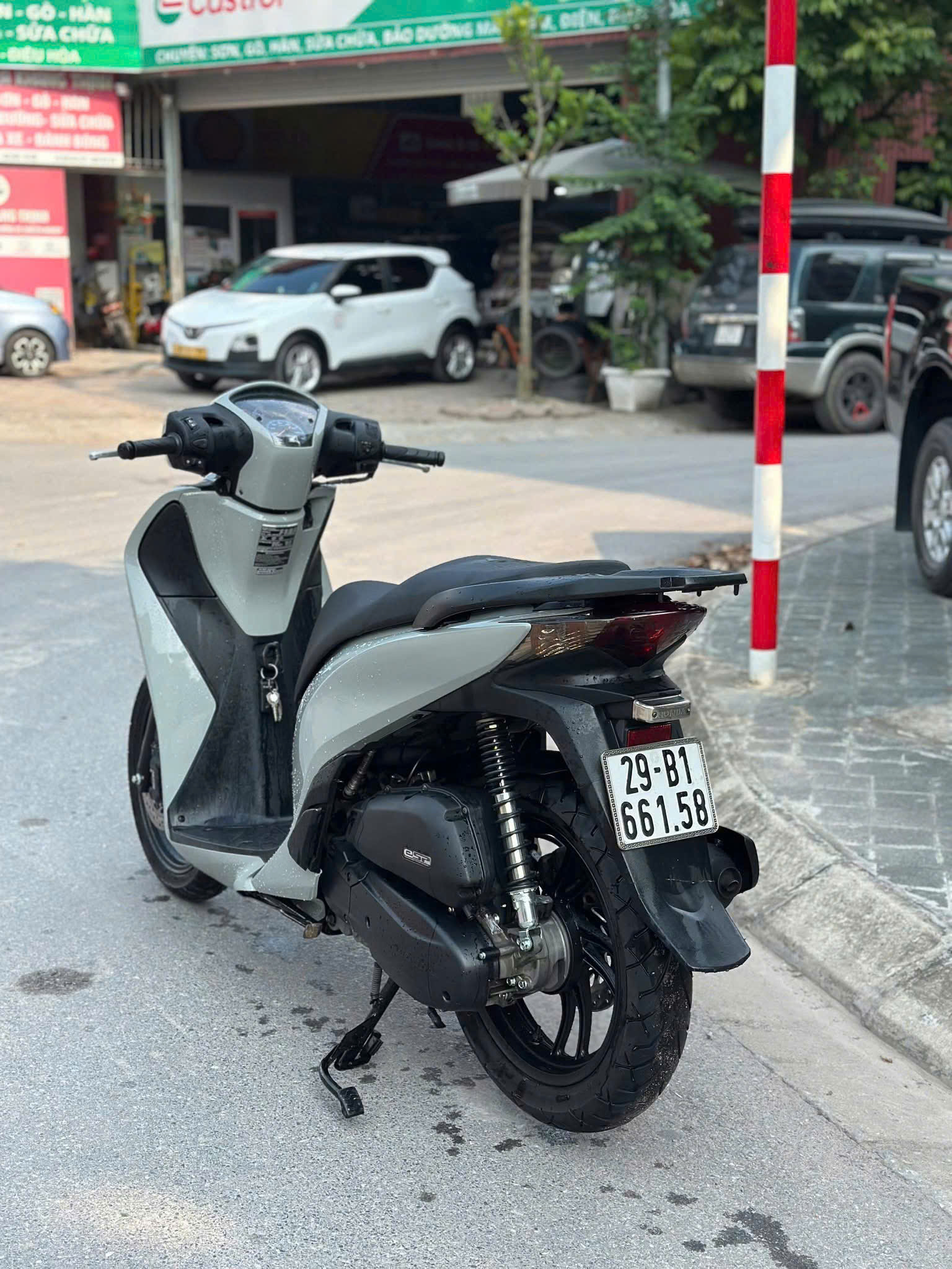Bien-so: (597, 735, 723, 846)
